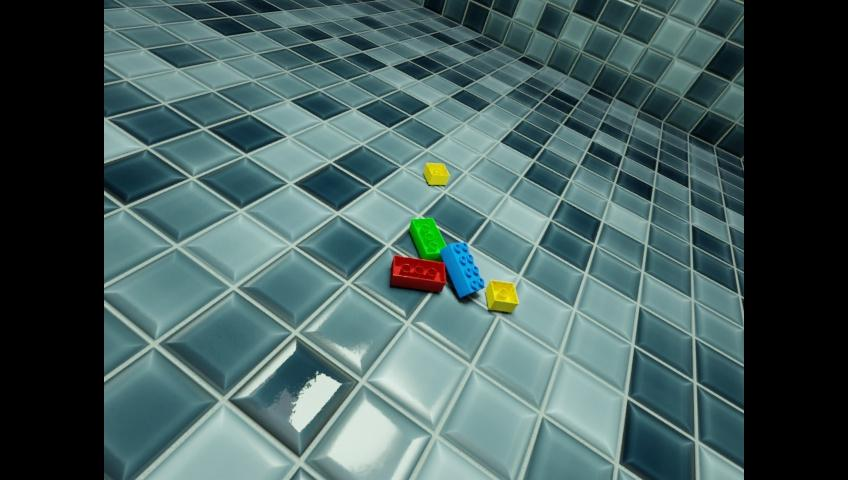2x2_yellow: (485, 280, 518, 313), (423, 162, 448, 185)
4x2_blue: (439, 241, 484, 297)
4x2_green: (408, 218, 445, 262)
4x2_red: (390, 254, 445, 291)
